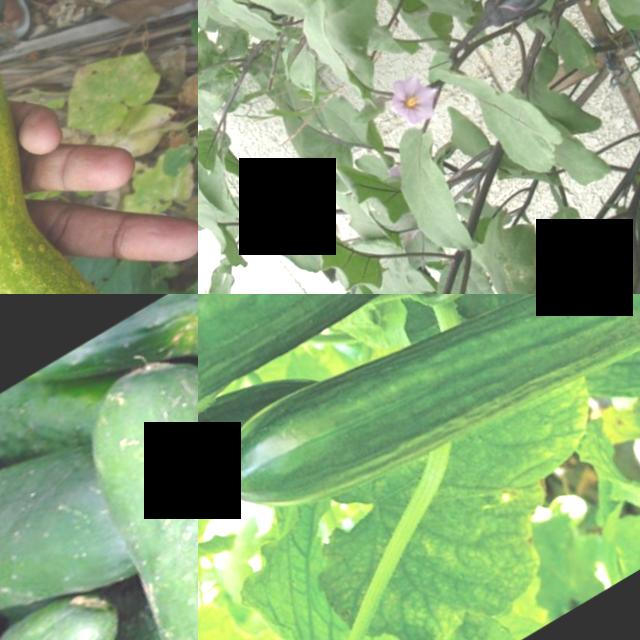cucumber: (198, 294, 587, 570), (198, 294, 535, 490), (31, 303, 198, 640), (0, 0, 171, 294), (0, 576, 137, 640)
eggplant: (270, 161, 337, 219), (470, 0, 566, 37)
